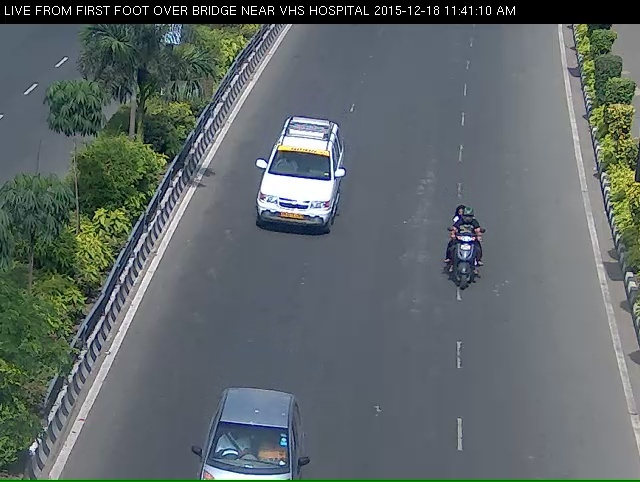Car: (244, 139, 343, 257)
Person: (448, 213, 489, 311)
